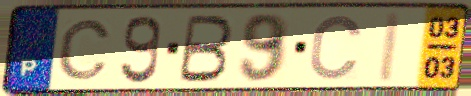9: (235, 11, 294, 85), (120, 14, 164, 84)
B: (175, 13, 236, 85)
C: (307, 12, 366, 82), (56, 17, 114, 82)
I: (374, 10, 405, 84)
